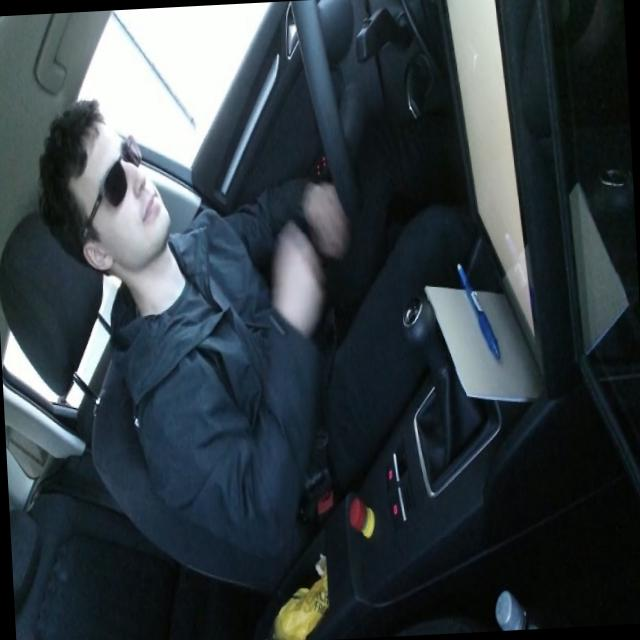pen: (455, 258, 501, 362)
